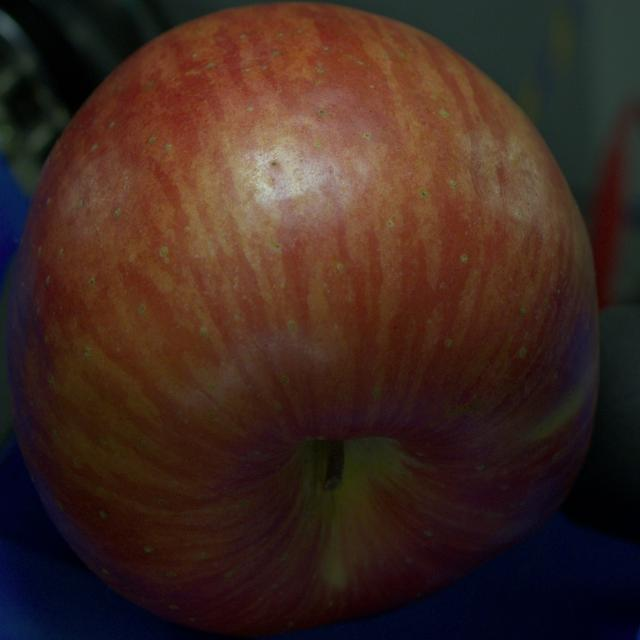apple: (6, 4, 599, 635)
